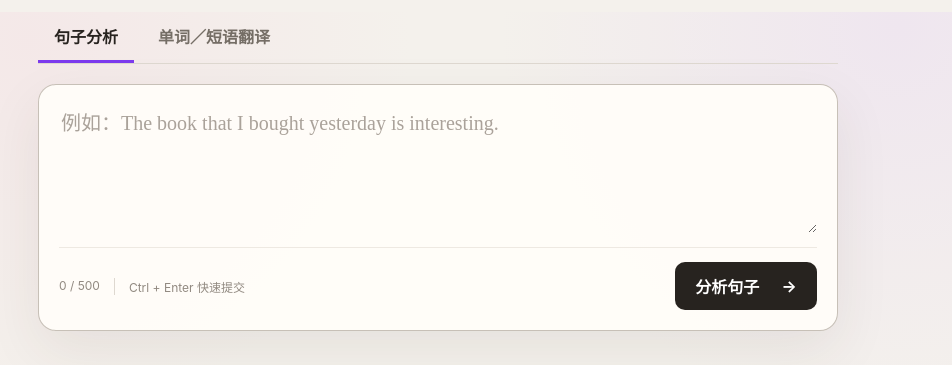
Test case: switches between sentence analysis and word or phrase translation
This screenshot has width=952, height=365.
Click the tab "单词／短语翻译". click: (214, 38)
box: [142, 12, 286, 63]
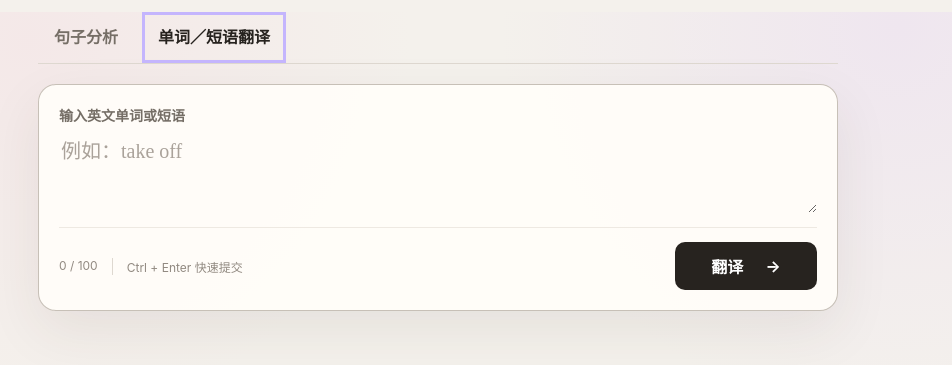
expect the text box labelled "输入英文单词或短语" is shown: met, box [59, 133, 817, 213]
Press Arrowleft
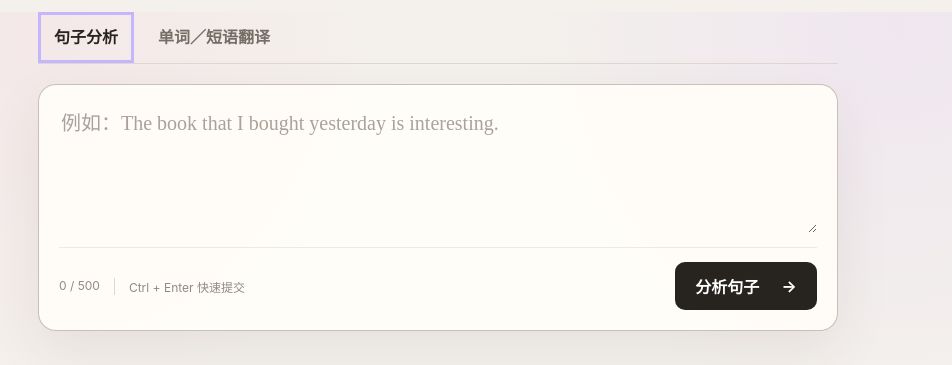
expect the text box named "英文句子" is shown: met, box [59, 105, 817, 233]
